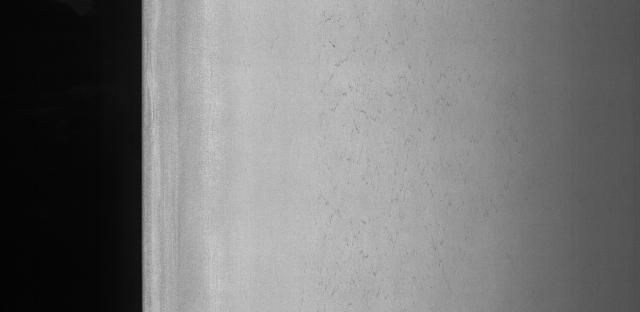silk_spot: (308, 6, 493, 302)
